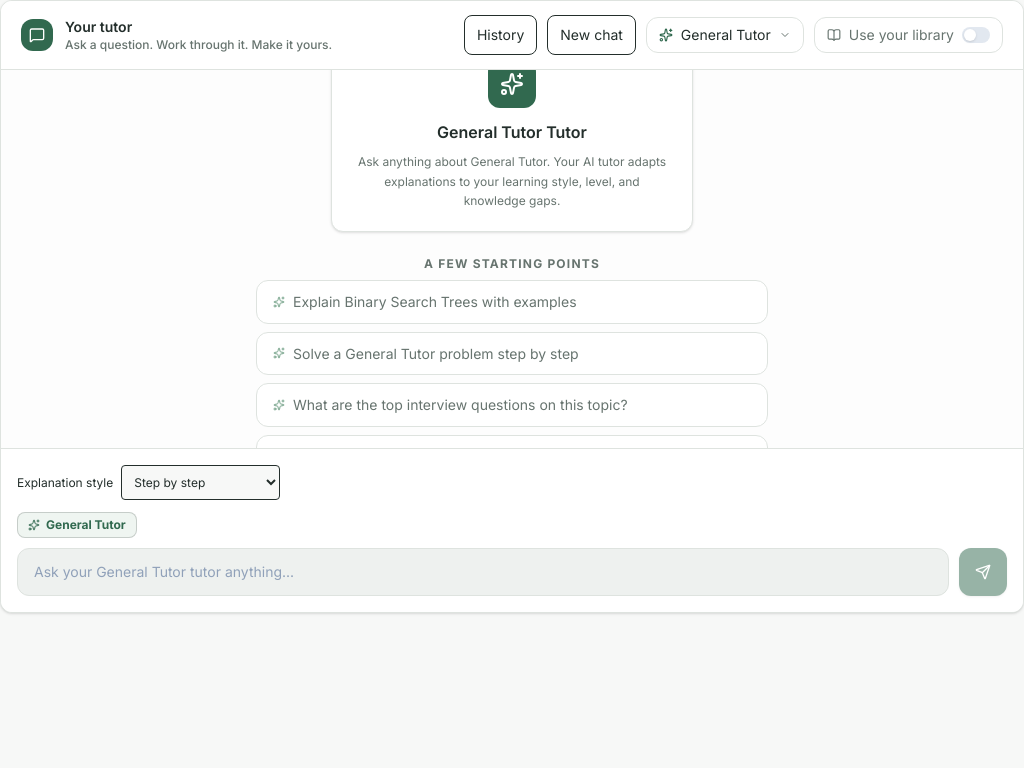
Test: tutor continuity › reopens saved history and restores the subject and chosen teaching style
The width and height of the screenshot is (1024, 768).
Click the button "History" at (501, 35), box [464,15,537,55]
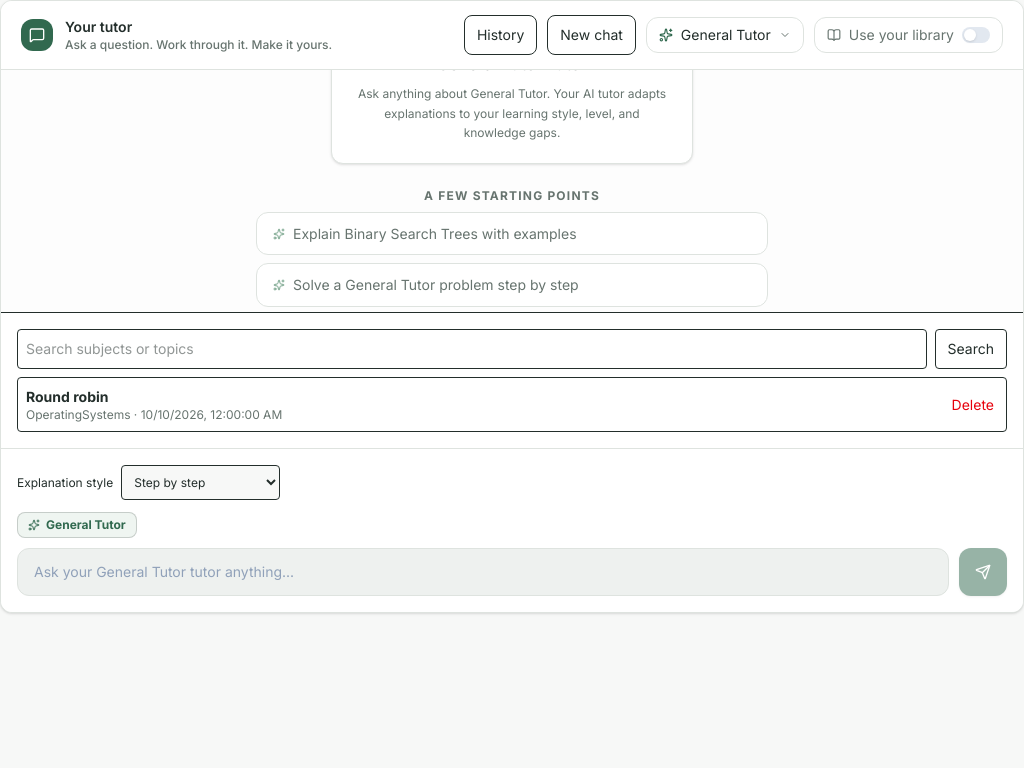
Click the button "Round robin OperatingSystems · 10/10/2026, 12:00:00 AM" at (67, 396), box [18,378,932,431]
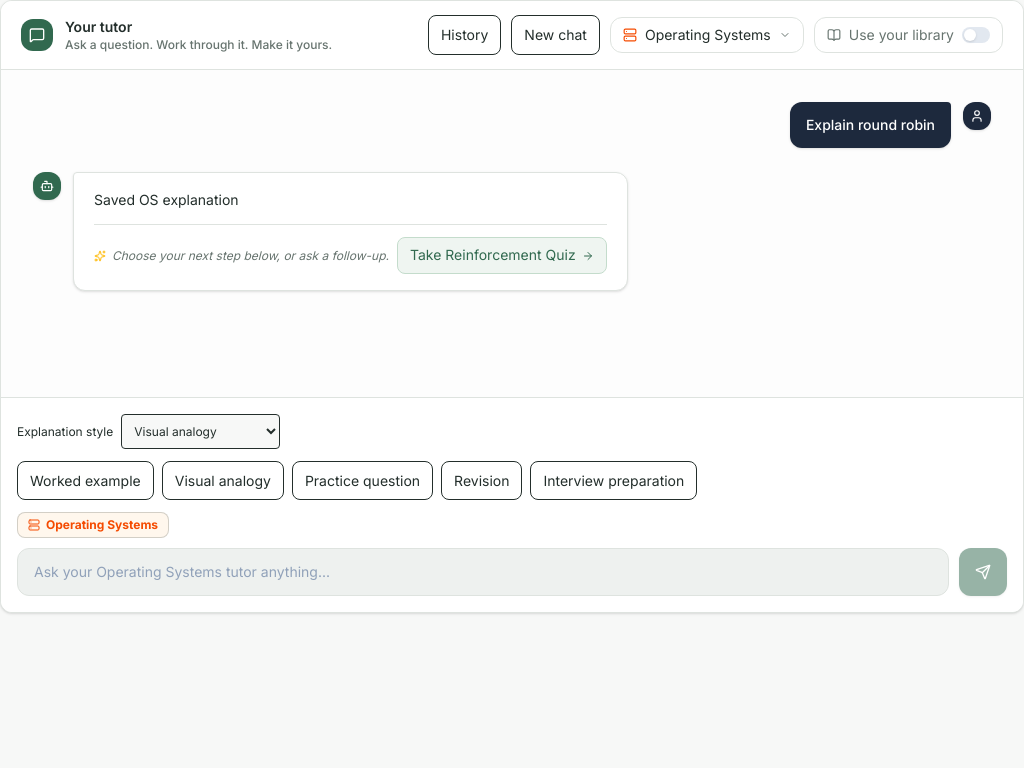
Expected: the text "Saved OS explanation" is shown, [94,191,239,208]
Expected: the dropdown labelled "Explanation style" shows "Visual analogy", [121,414,280,449]
